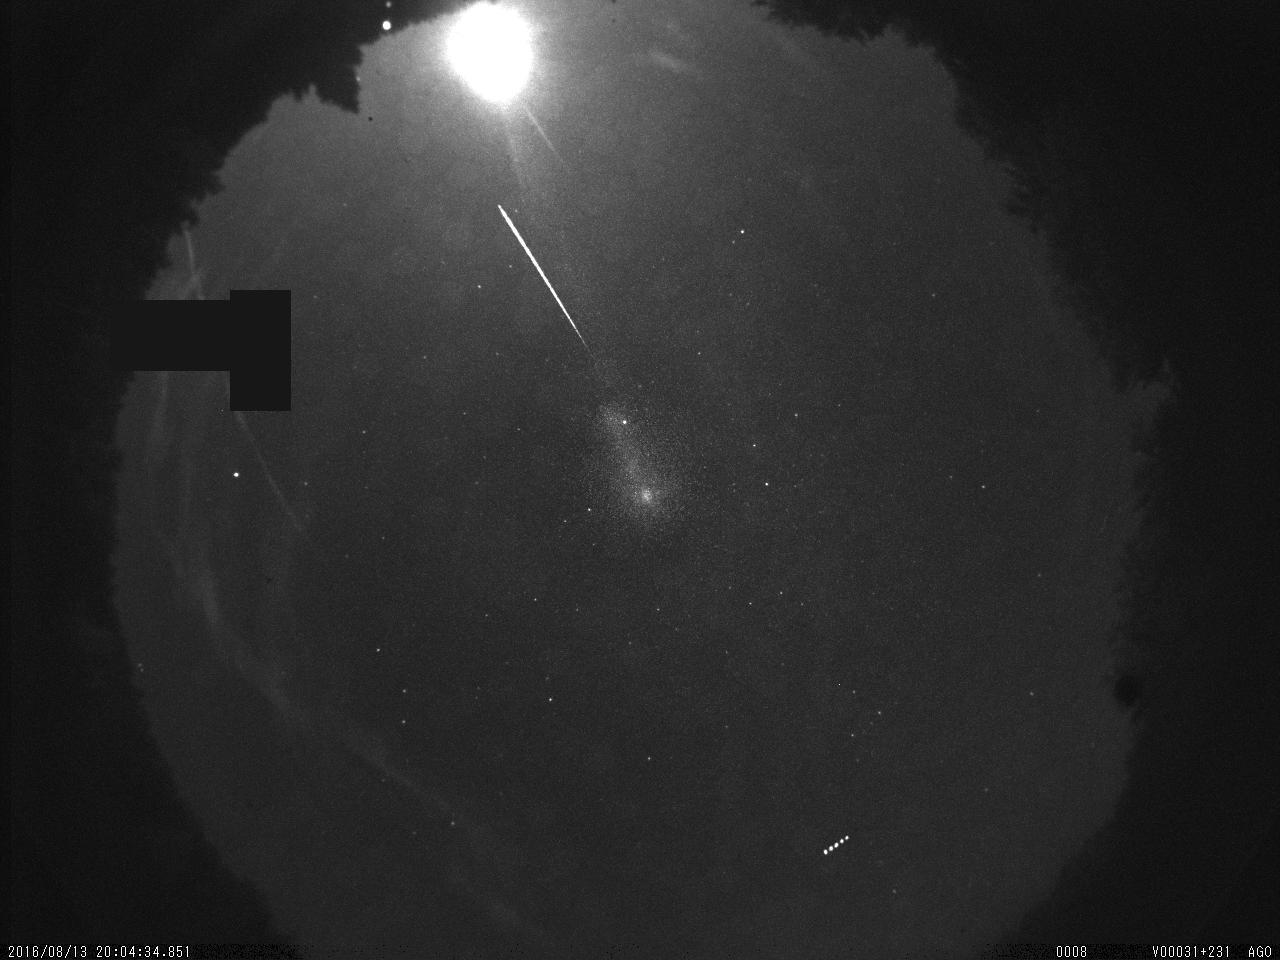meteor: (488, 198, 601, 367)
satelite: (819, 827, 857, 860)
